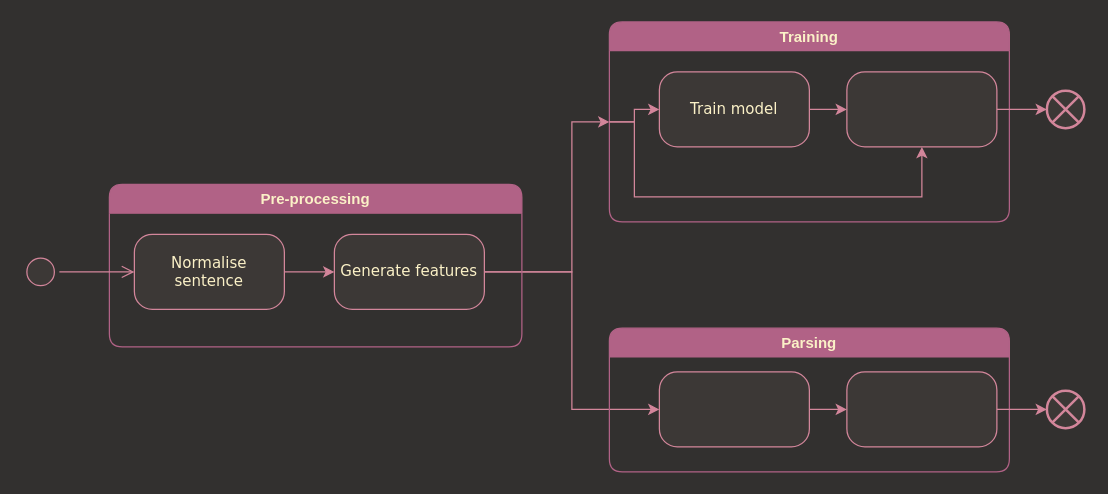
The diagram is 1108 pixels wide and 494 high, and some of its shapes have lost their labels. The shapes that lost their labels are listed below. From the top down, each one's centre as x and y in pixels, then its label:
At [921,109]: "Evaluate model".
At [733,409]: "Label tokens".
At [921,409]: "Post-process tokens".
